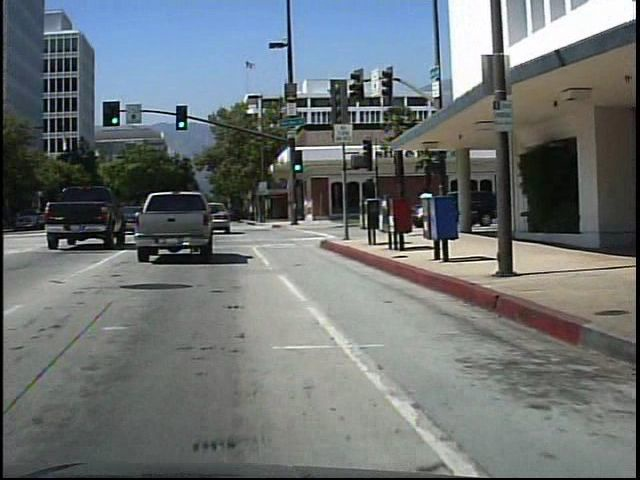person: (417, 184, 438, 234)
